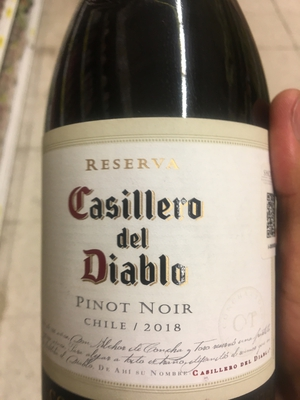casillero del diablo pinot noir: (45, 1, 284, 400)
